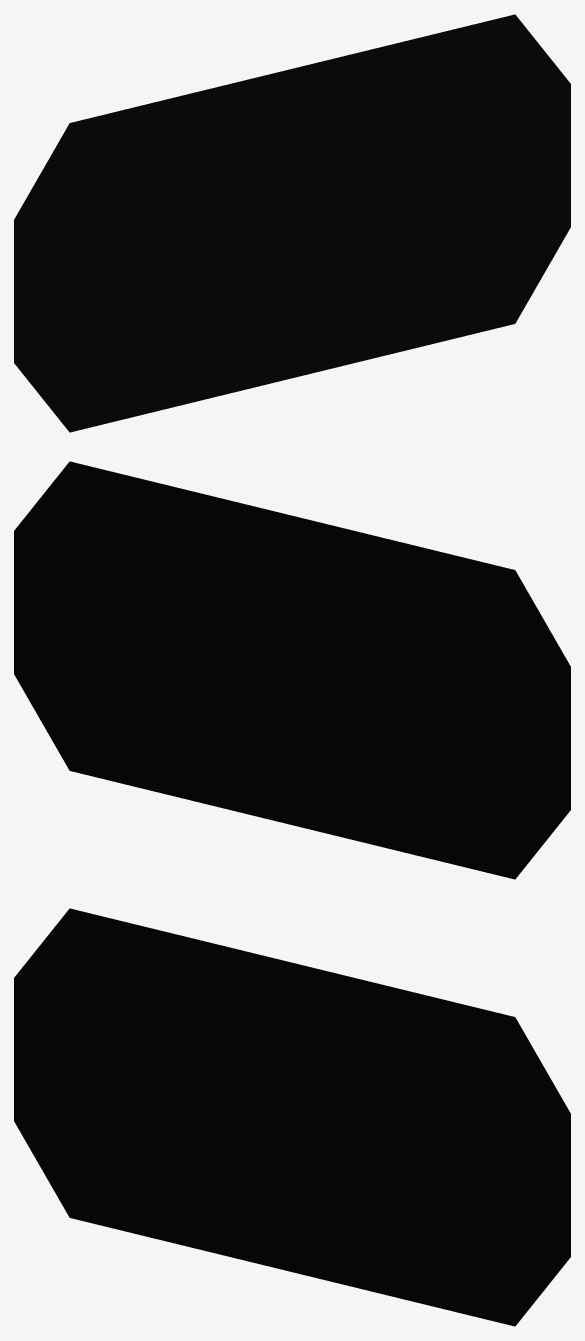
The model's file is Radar_Panels.fbx.
3 renders of one model, top to bottom at view 1: azimuth 30°, elevation 25°; view 2: azimuth 150°, elevation 25°; view 3: azimuth 330°, elevation 25°, orthographic.
Parts seen in each view (by area): view 1: Hull_LOD0.001; view 2: Hull_LOD0.001; view 3: Hull_LOD0.001.
Part boxes in pixels (bbox=[...]): Hull_LOD0.001: bbox=[14, 14, 570, 432]; Hull_LOD0.001: bbox=[14, 461, 570, 879]; Hull_LOD0.001: bbox=[14, 908, 570, 1326].
Bounding box in the file's own units: 73.57 × 39.07 × 3.62e-05.
1 material, 1 textured.
